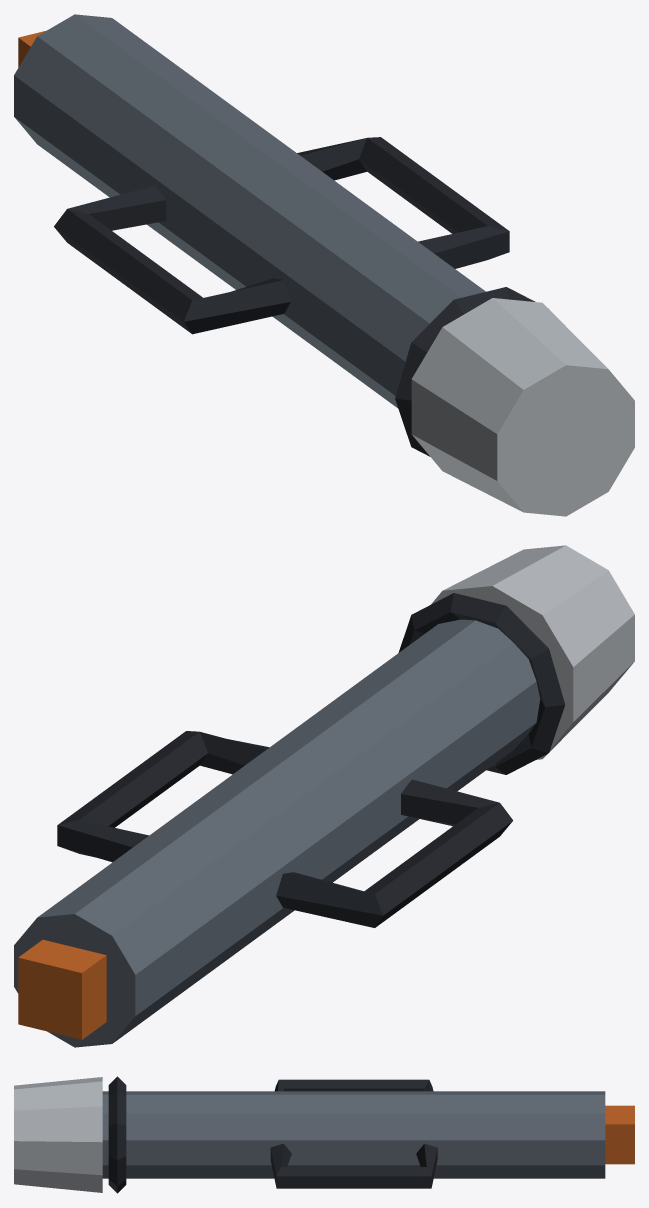
The model's file is portable-ram.glb.
3 views of the same model, one above another, from view 1: azimuth 30°, elevation 25°; view 2: azimuth 150°, elevation 25°; view 3: azimuth 270°, elevation 25° (orthographic). The views are drawn at different scales.
Visible parts, largest first — view 1: m; view 2: m; view 3: m.
Part boxes in pixels (x1,y1,x2,y2): m: (14, 14, 634, 516); m: (14, 545, 634, 1047); m: (14, 1076, 634, 1193).
Bounding box in the file's own units: 0.1784 × 0.093 × 0.4884.
